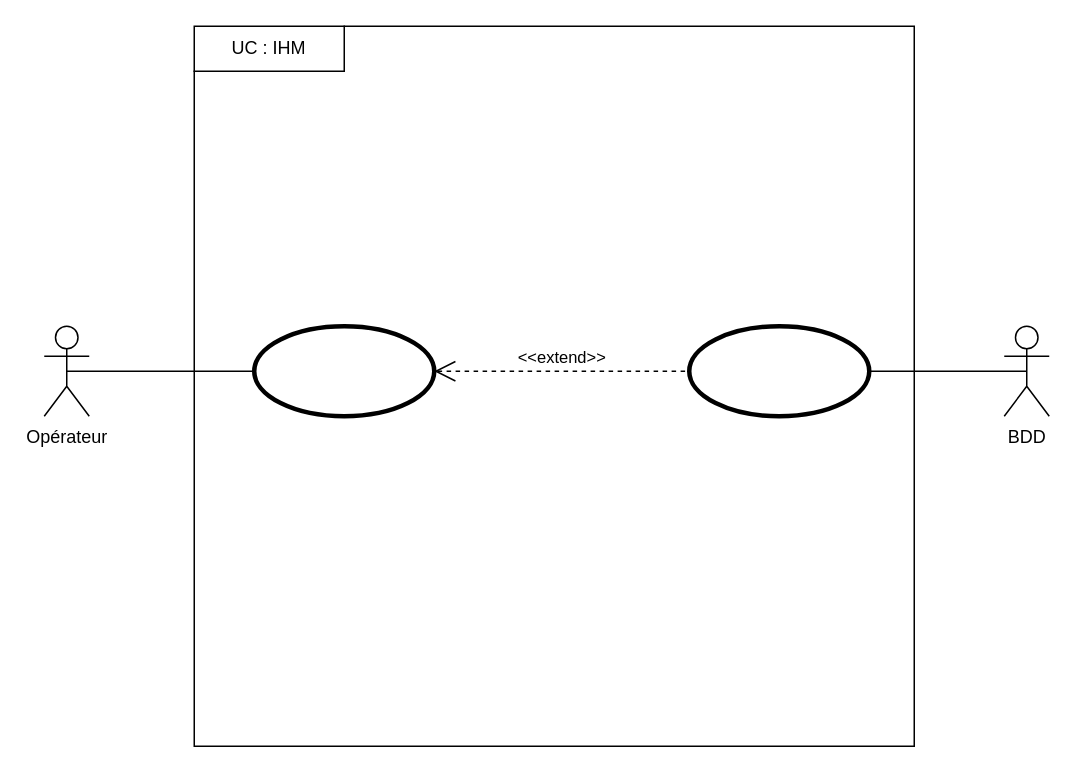
Some shapes in this 1076 by 773 pixel diagram are drawn without their labels. The shapes that lost their labels are listed below. From the top down, each one's box as (x1, y1, x2, y2) in pixels, then its label:
(251, 323, 436, 418): Consulter les données
(686, 323, 871, 418): Actualiser les données
